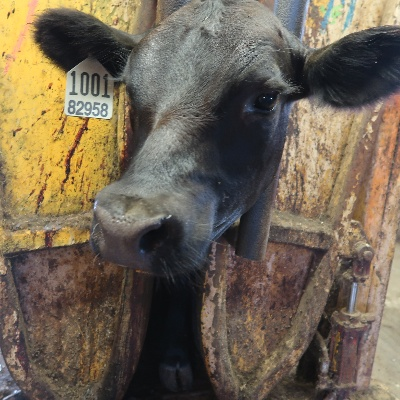fidget_spinner: (79, 183, 189, 270)
